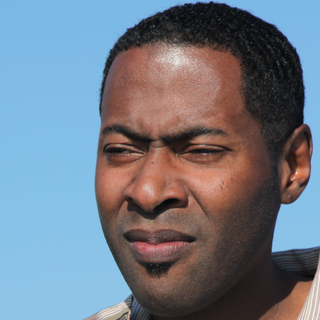eye: (179, 140, 232, 163), (100, 140, 145, 163)
